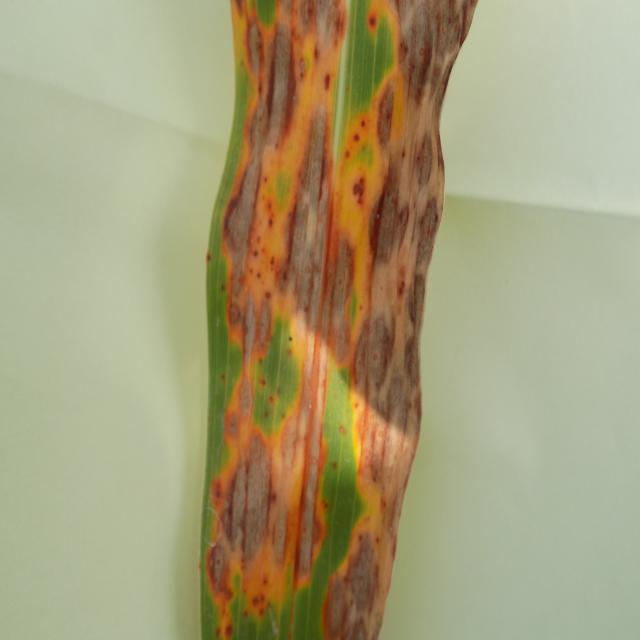millet_rust: (209, 0, 455, 628)
